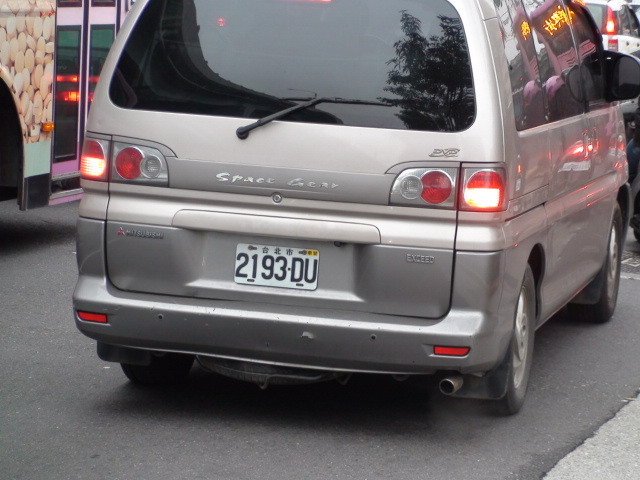plate: (232, 240, 320, 292)
